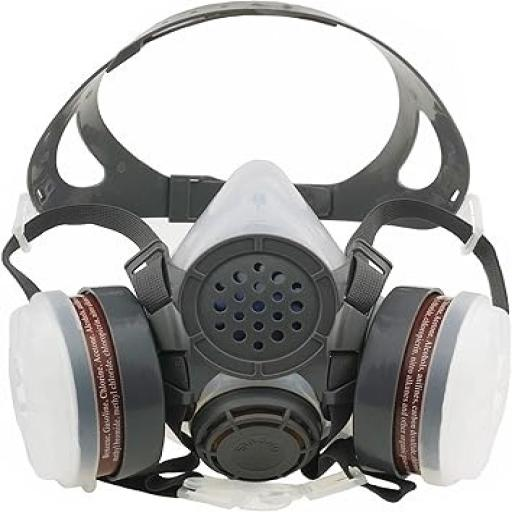mask: (0, 205, 512, 507)
